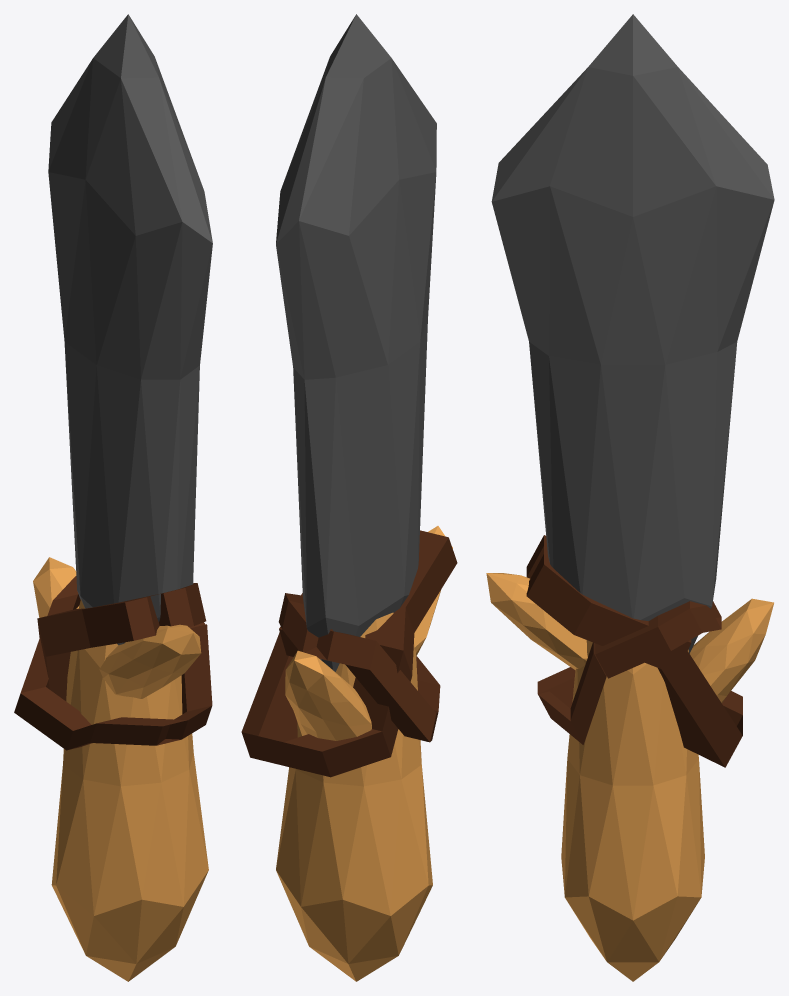
File: stone_sword.fbx
The picture shows the model from 3 angles, left to right: view 1: azimuth 30°, elevation 25°; view 2: azimuth 150°, elevation 25°; view 3: azimuth 270°, elevation 25°; orthographic projection.
Visible parts, largest first — view 1: Icosphere.003, Icosphere, Cube.001, Cube, Icosphere.001, Icosphere.002; view 2: Icosphere.003, Icosphere, Cube, Cube.001, Icosphere.002, Icosphere.001; view 3: Icosphere.003, Icosphere, Cube, Cube.001, Icosphere.002, Icosphere.001.
Boxes of the visible parts, x1,y1,x2,y2 form: Icosphere.003: (48,14,212,645); Icosphere: (51,599,208,981); Cube.001: (14,576,212,750); Cube: (37,583,206,701); Icosphere.001: (99,624,201,698); Icosphere.002: (33,557,78,617); Icosphere.003: (276,14,436,671); Icosphere: (276,612,432,981); Cube: (241,530,457,777); Cube.001: (278,593,440,742); Icosphere.002: (285,650,371,740); Icosphere.001: (414,526,452,655); Icosphere.003: (491,14,774,653); Icosphere: (561,640,704,981); Cube: (526,535,742,767); Cube.001: (537,601,721,744); Icosphere.002: (690,598,773,703); Icosphere.001: (486,573,587,669).
Bounding box in the file's own units: 340 × 1933 × 522.
